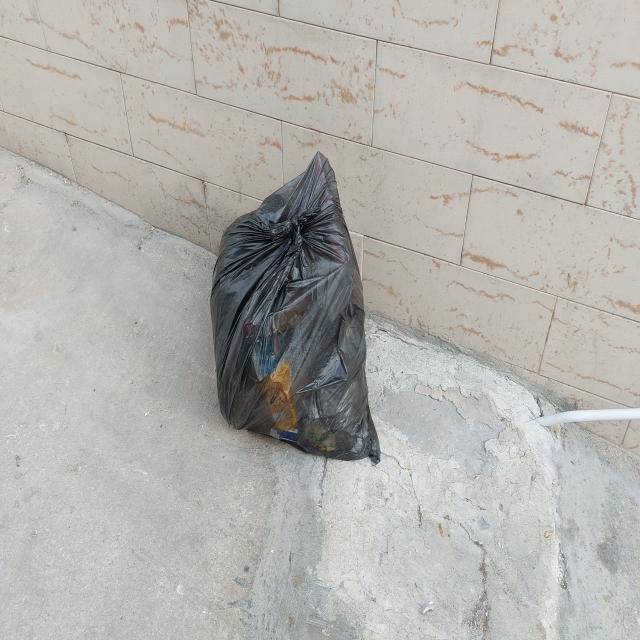Mixed Waste -Black Bag-: (207, 146, 386, 478)
